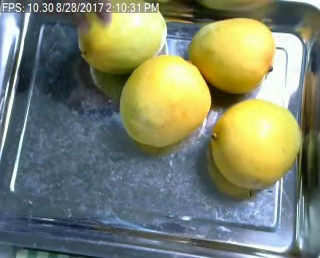Mango: (120, 56, 209, 146), (213, 99, 302, 188), (79, 0, 169, 72), (187, 20, 274, 92)
